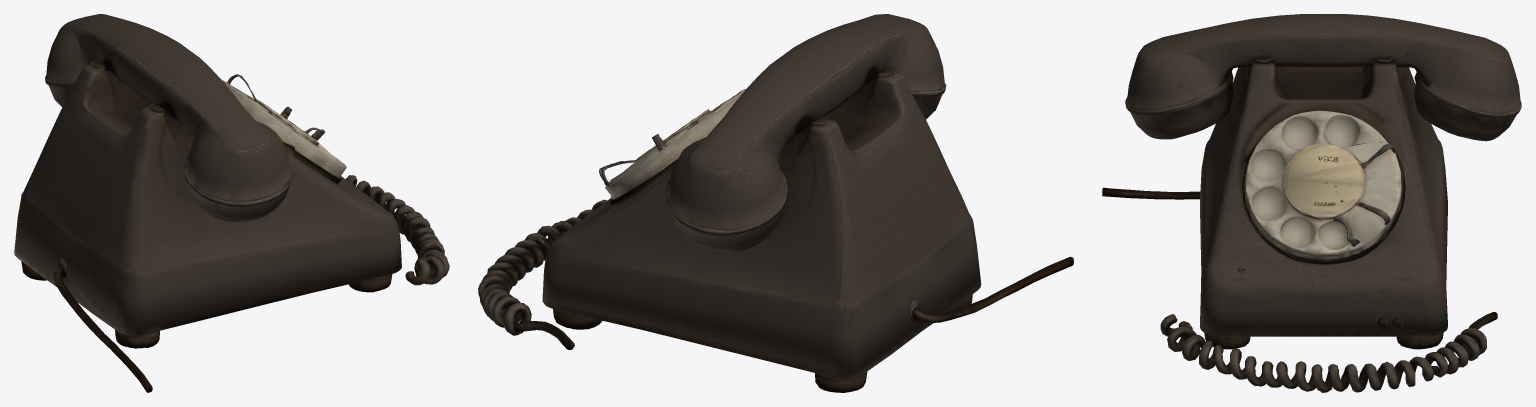
3 renders of one model, left to right at view 1: azimuth 30°, elevation 25°; view 2: azimuth 150°, elevation 25°; view 3: azimuth 270°, elevation 25°, orthographic. The views are drawn at different scales.
Parts seen in each view (by area): view 1: tripo_node_a41694e0-5689-4a22-a33b-cbfe5ded49d2; view 2: tripo_node_a41694e0-5689-4a22-a33b-cbfe5ded49d2; view 3: tripo_node_a41694e0-5689-4a22-a33b-cbfe5ded49d2.
Boxes of the visible parts, box(x1,y1,x2,y2) form: tripo_node_a41694e0-5689-4a22-a33b-cbfe5ded49d2: box(14, 14, 449, 392); tripo_node_a41694e0-5689-4a22-a33b-cbfe5ded49d2: box(478, 14, 1073, 392); tripo_node_a41694e0-5689-4a22-a33b-cbfe5ded49d2: box(1102, 14, 1521, 392).
Size of the model in its own units: 0.998 by 0.6074 by 0.9238.
1 material, 1 textured.
